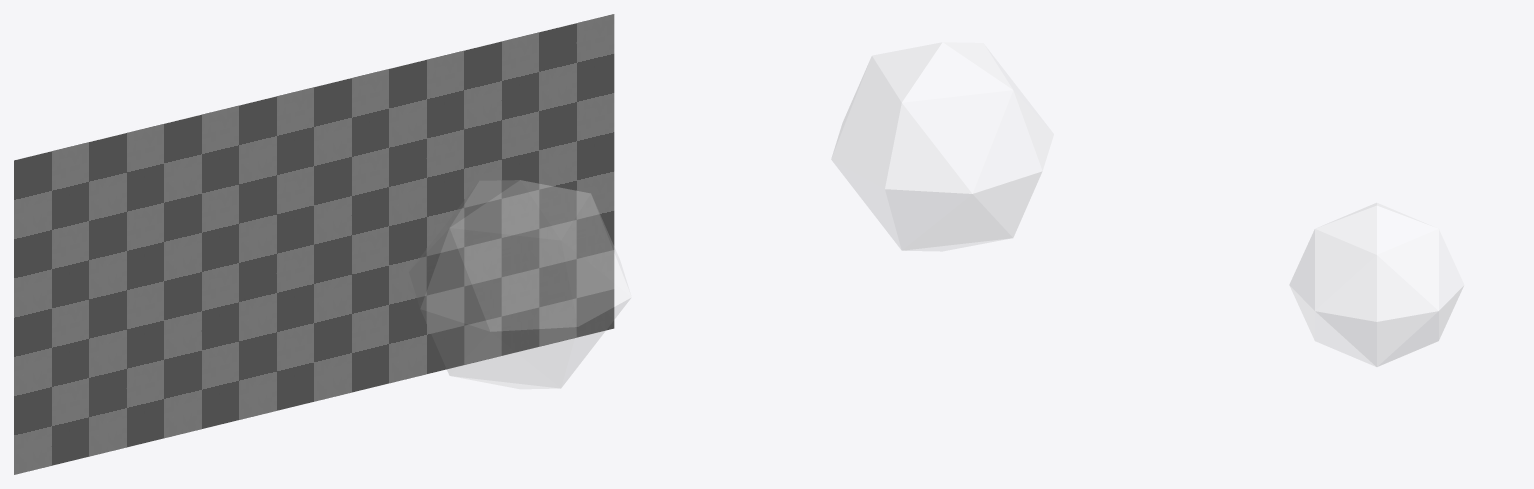
The model's file is CompareDispersionRight.glb.
The picture shows the model from 3 angles, left to right: view 1: azimuth 30°, elevation 25°; view 2: azimuth 150°, elevation 25°; view 3: azimuth 270°, elevation 25°; orthographic projection. The views are drawn at different scales.
Visible parts, largest first — view 1: Checker, GeoSphere002; view 2: GeoSphere002; view 3: GeoSphere002.
Part boxes in pixels (bbox=[...]): Checker: bbox=[14, 14, 614, 474]; GeoSphere002: bbox=[409, 180, 630, 388]; GeoSphere002: bbox=[831, 42, 1053, 251]; GeoSphere002: bbox=[1290, 203, 1463, 366].
Size of the model in its own units: 3 by 1.5 by 1.32.
Materials: 2 (1 with a texture image).
